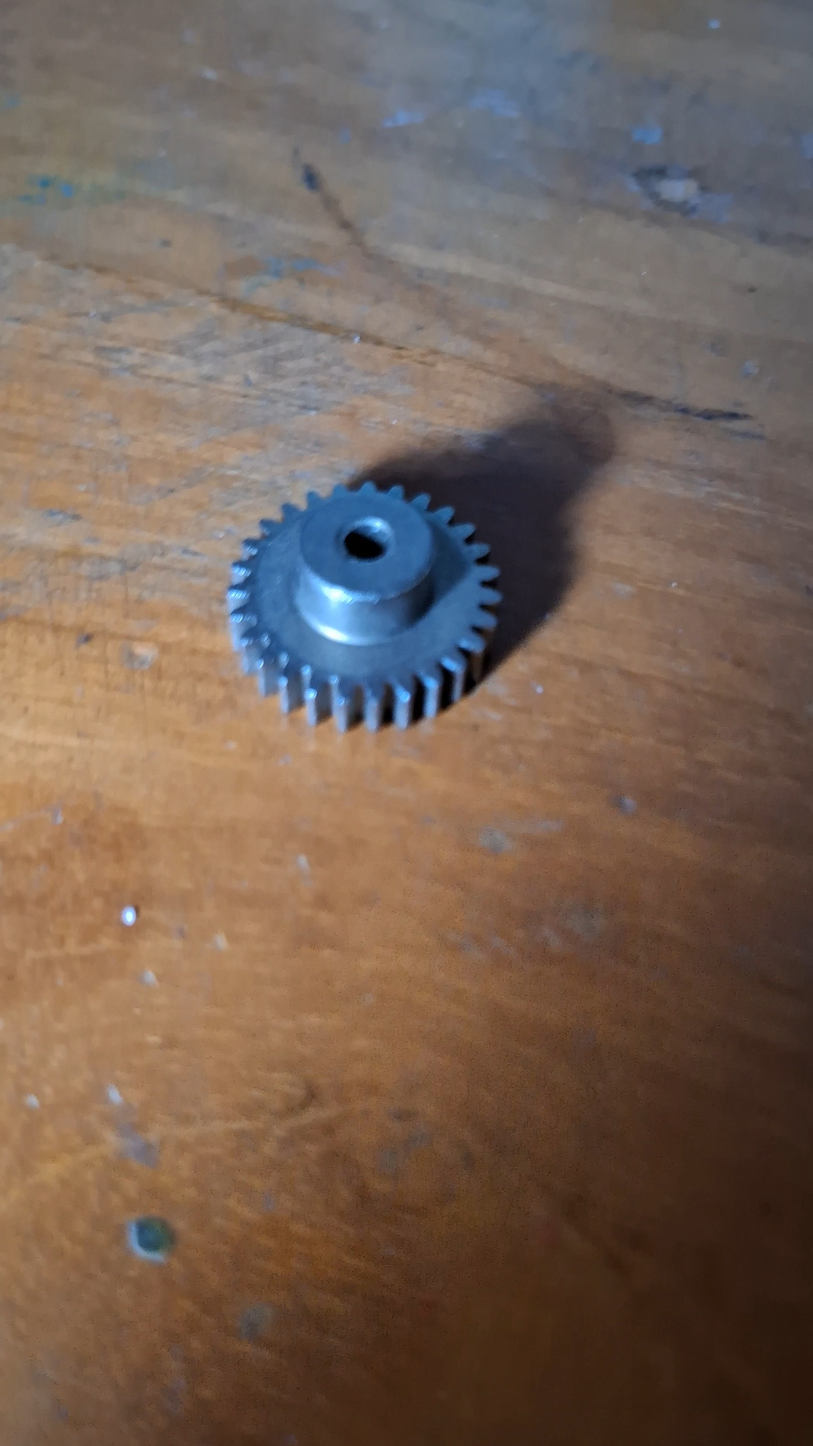spur gear: (227, 482, 500, 730)
